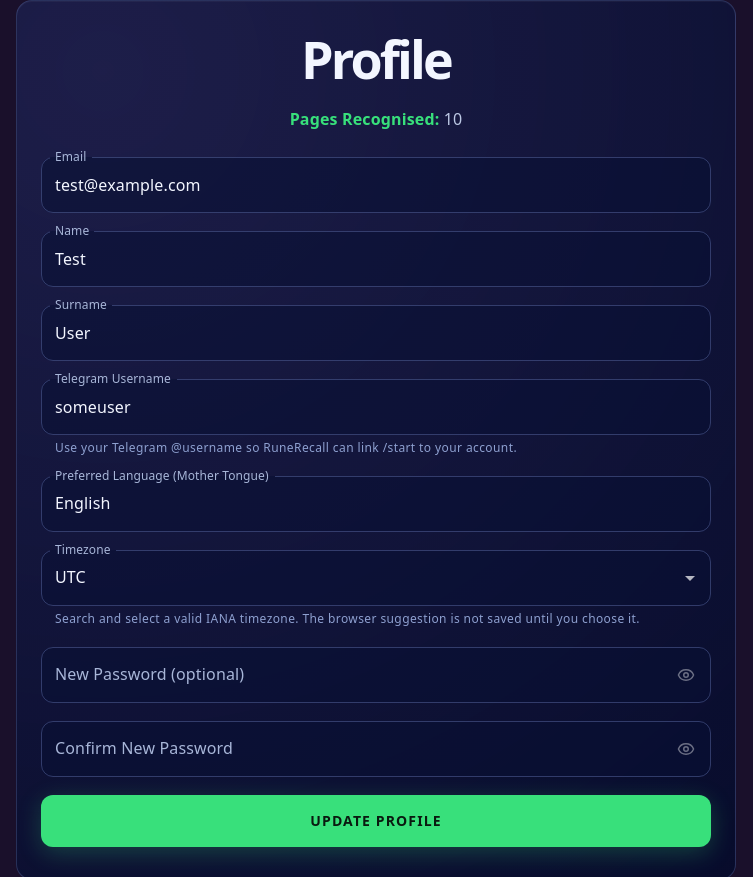
it: Profile › validates password change
The image size is (753, 877).
Type "newpassword" into the password field labelled "New Password (optional)".
click(352, 675); type("newpassword")  # box [41,647,664,703]
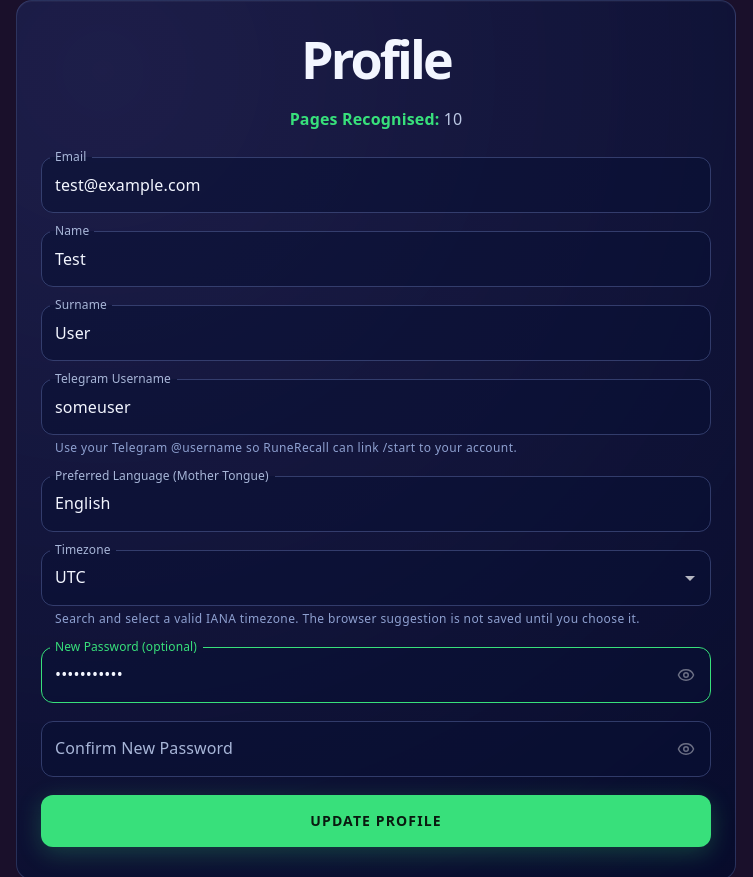
Type "differentpassword" into the password field labelled "Confirm New Password".
click(352, 749); type("differentpassword")  # box [41,721,664,777]
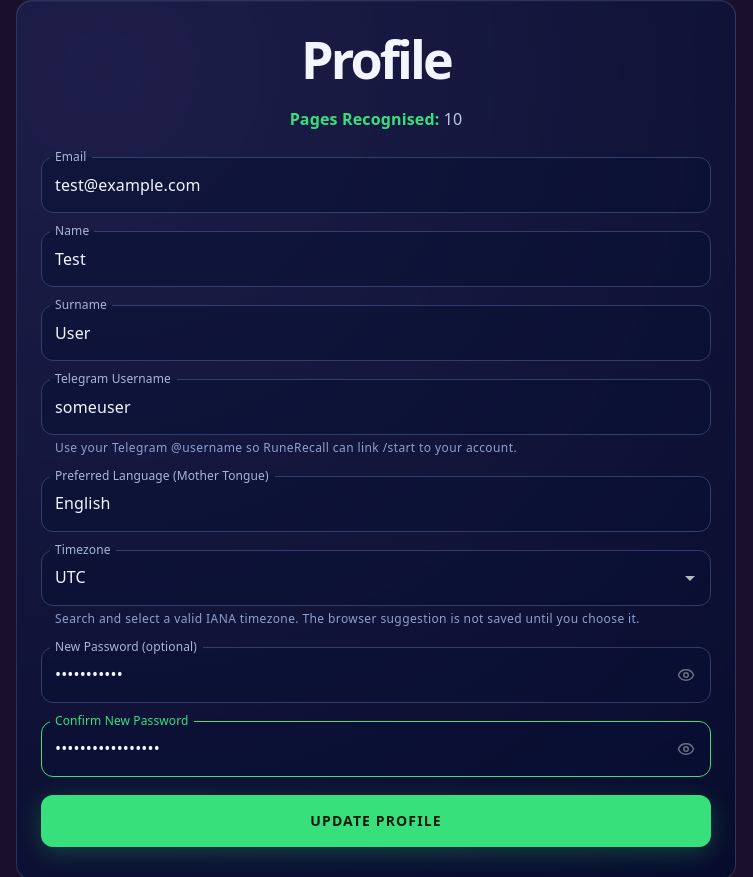
Click the button "Update Profile".
click(376, 821)  # box [41,795,711,847]
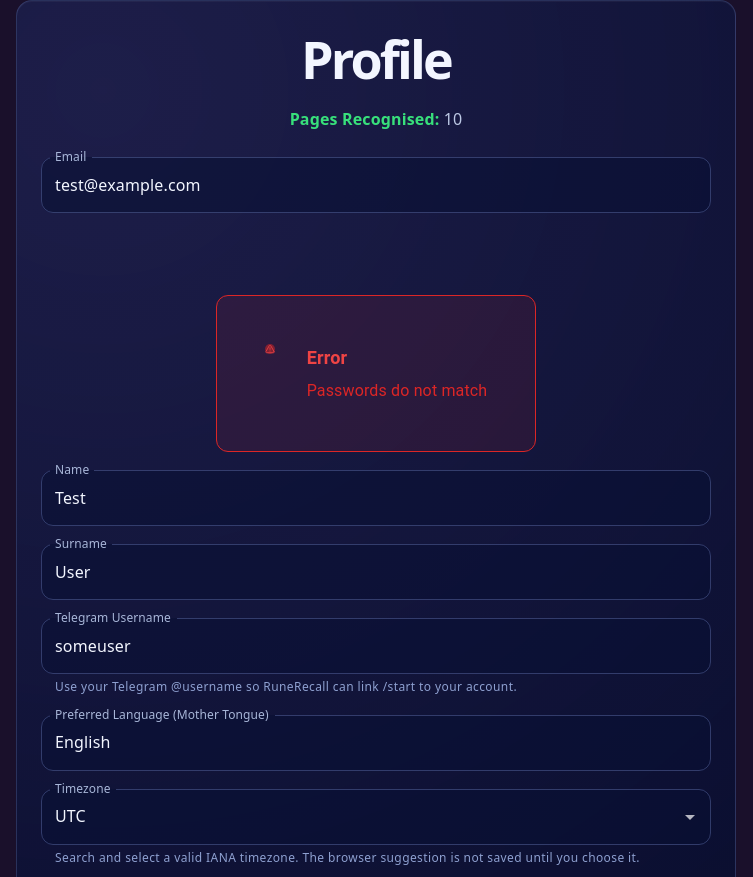
Expected: the text "Passwords do not match" is shown, [307,379,487,403]
